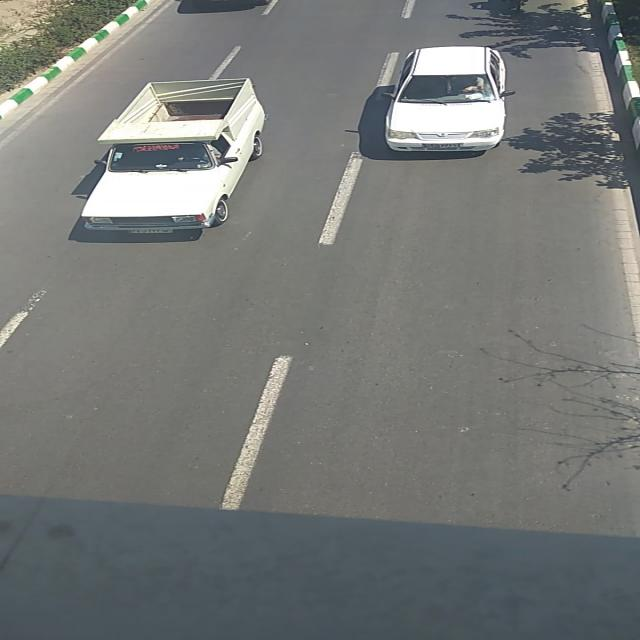car: (83, 77, 269, 233), (380, 46, 514, 156)
